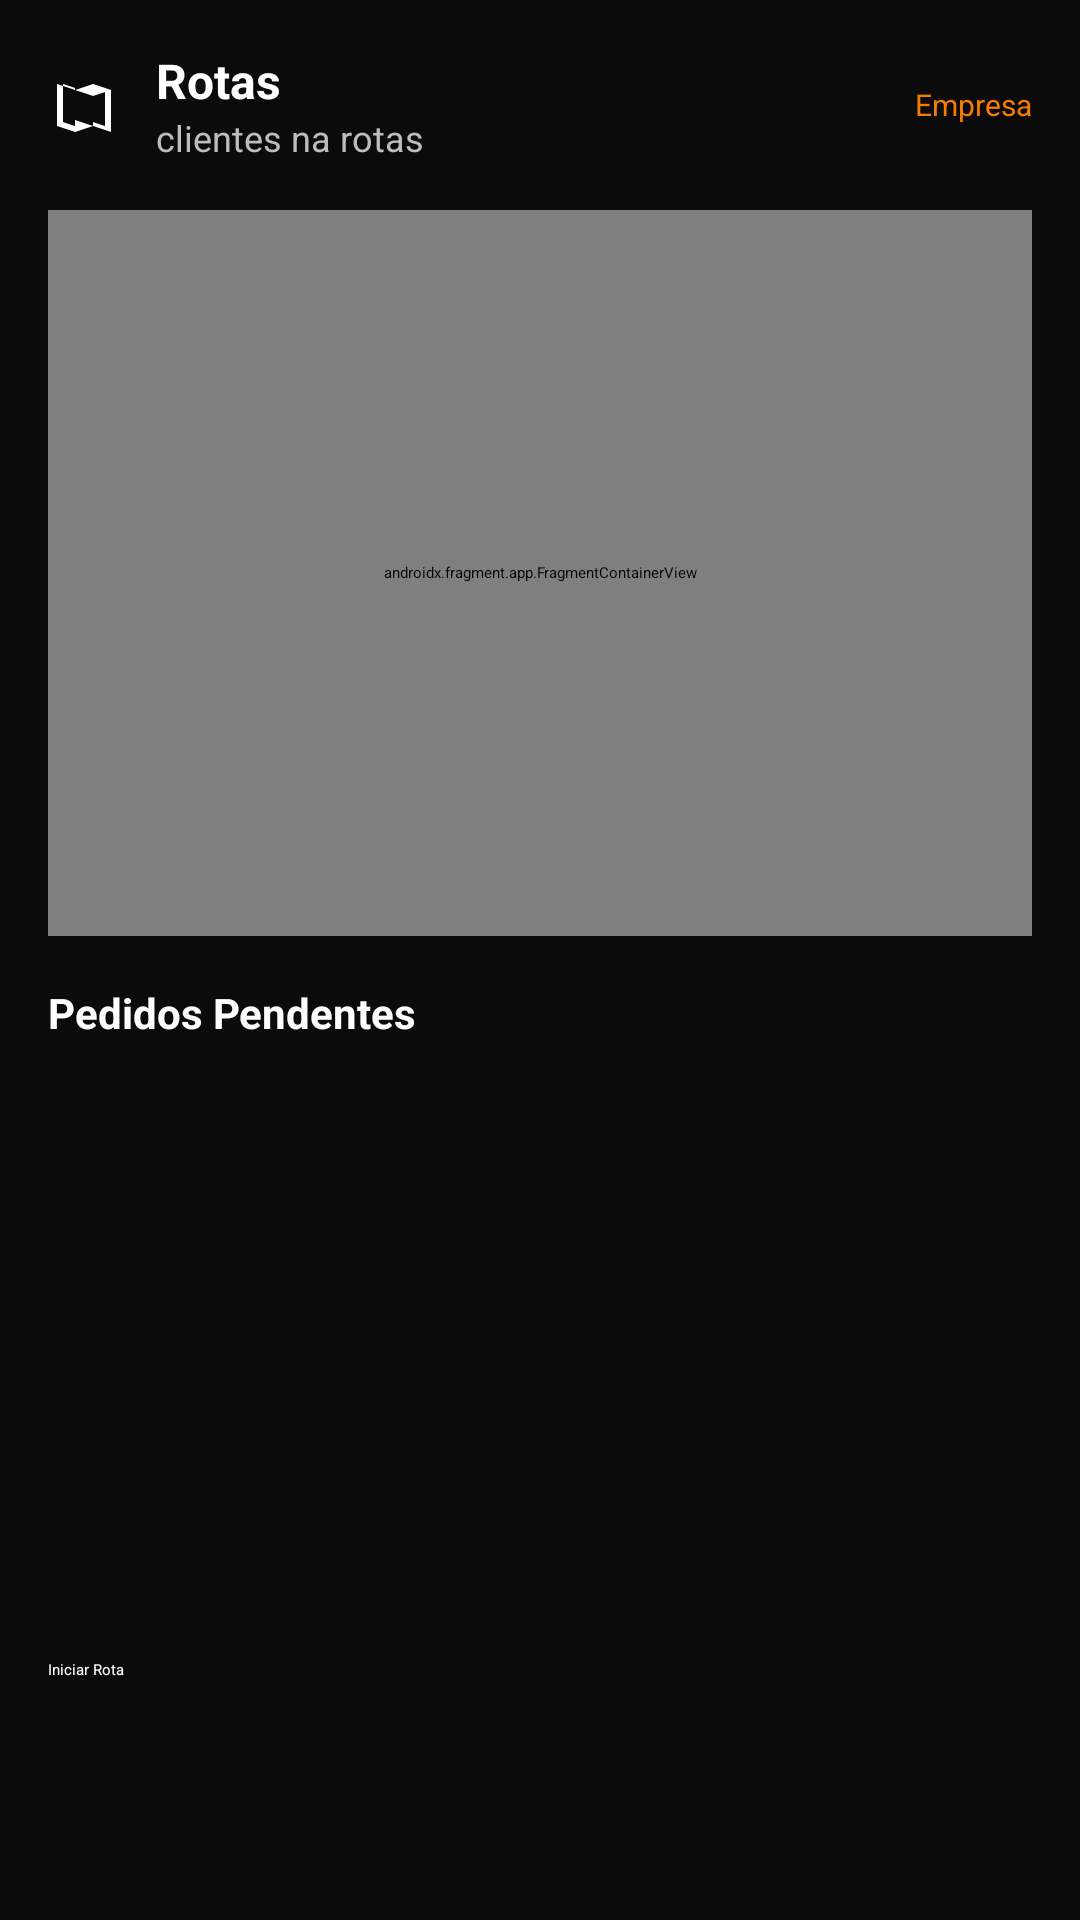

Locate icon controls on the screen. Image size 1080 x 1920, boxes as (x1, y1, x2, y2).
map: (57, 84, 111, 132)
